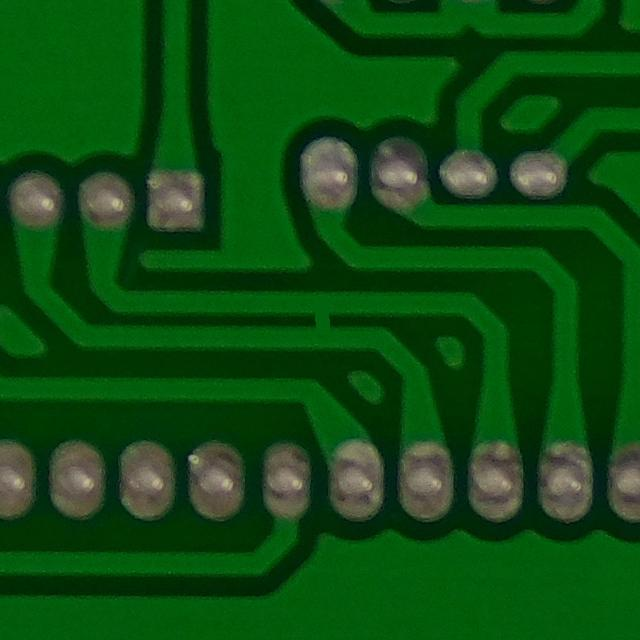short: (280, 277, 361, 363)
